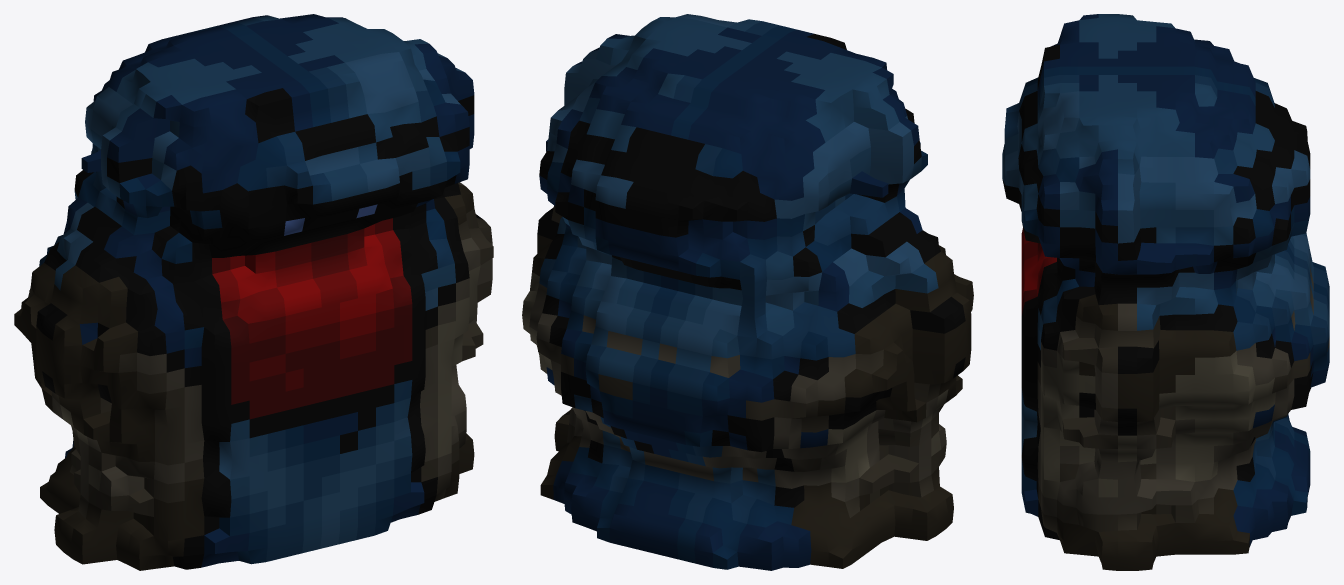
The model's file is Icon_710_01.obj.
3 views of the same model, side by side, from view 1: azimuth 30°, elevation 25°; view 2: azimuth 150°, elevation 25°; view 3: azimuth 270°, elevation 25° (orthographic). The views are drawn at different scales.
Size of the model in its own units: 2.4 by 2.4 by 1.7.
1 material, 1 textured.
